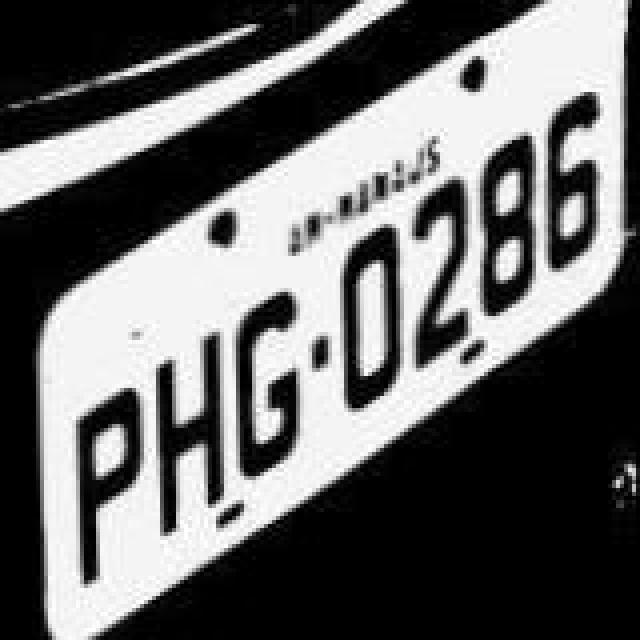2: (404, 172, 476, 380)
6: (534, 80, 606, 288)
8: (466, 116, 546, 328)
G: (228, 286, 308, 502)
H: (146, 322, 226, 550)
O: (336, 220, 404, 424)
P: (70, 378, 154, 598)
